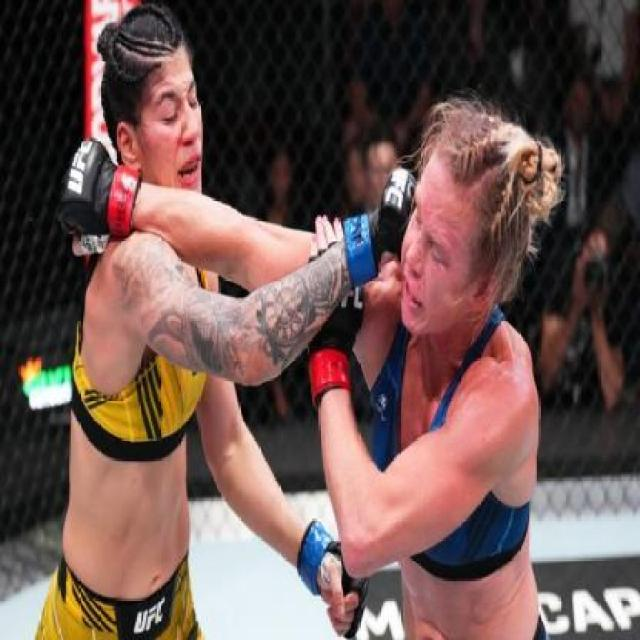fight: (35, 0, 576, 640)
